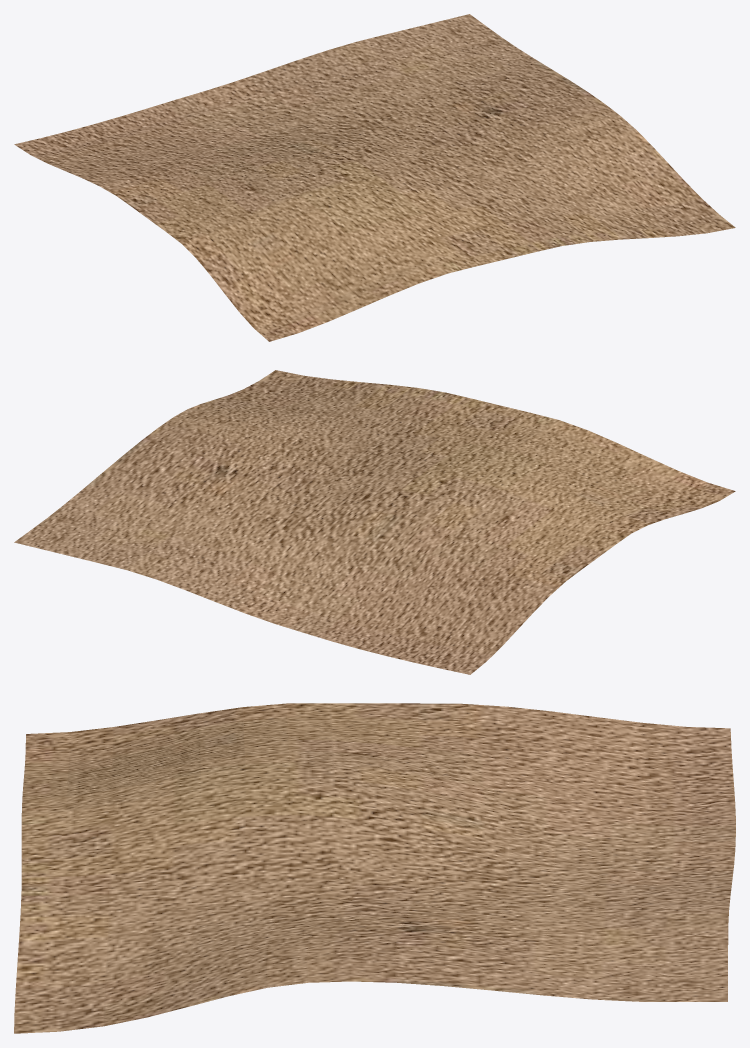
File: beach_sandonly.glb
The picture shows the model from 3 angles, top to bottom: view 1: azimuth 30°, elevation 25°; view 2: azimuth 150°, elevation 25°; view 3: azimuth 270°, elevation 25°; orthographic projection. The views are drawn at different scales.
Parts seen in each view (by area): view 1: Plane; view 2: Plane; view 3: Plane.
Boxes of the visible parts, x1,y1,x2,y2 form: Plane: (14, 14, 735, 341); Plane: (14, 370, 735, 674); Plane: (14, 703, 735, 1033).
Bounding box in the file's own units: 3.07 × 0.2837 × 3.07.
1 material, 1 textured.
